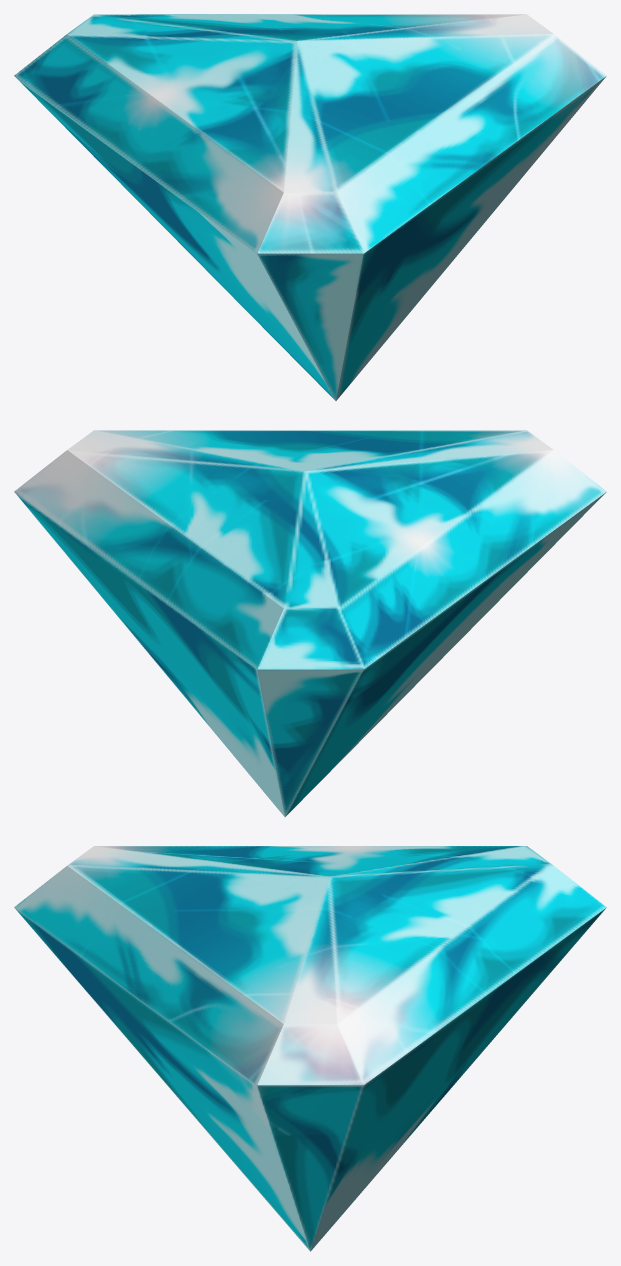
Rendered from stone_blue_001.fbx.
The picture shows the model from 3 angles, top to bottom: view 1: azimuth 30°, elevation 25°; view 2: azimuth 150°, elevation 25°; view 3: azimuth 270°, elevation 25°; orthographic projection.
Visible parts, largest first — view 1: stone; view 2: stone; view 3: stone.
Part boxes in pixels (x1=…): stone: x1=14, y1=14, x2=606, y2=400; stone: x1=14, y1=430, x2=606, y2=816; stone: x1=14, y1=846, x2=606, y2=1251.
Bounding box in the file's own units: 5.67 × 4.39 × 6.55.
